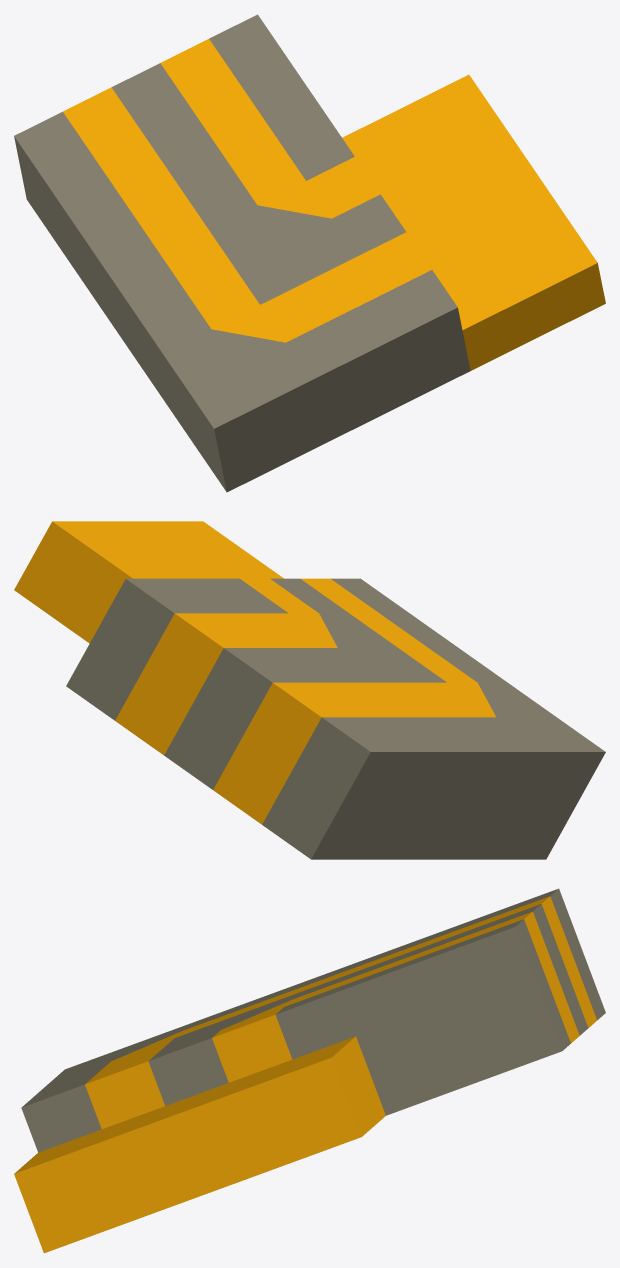
File: logic-circuit.glb
3 renders of one model, top to bottom at view 1: azimuth 30°, elevation 25°; view 2: azimuth 150°, elevation 25°; view 3: azimuth 270°, elevation 25°, orthographic. The views are drawn at different scales.
Visible parts, largest first — view 1: Cube.021; view 2: Cube.021; view 3: Cube.021.
Part boxes in pixels (<box>): Cube.021: <box>14,14,605,492</box>; Cube.021: <box>14,521,605,859</box>; Cube.021: <box>14,888,605,1253</box>.
Bounding box in the file's own units: 4.62 × 3.58 × 5.
1 material, 1 textured.
